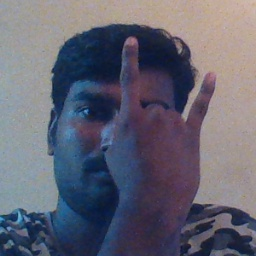V: (103, 35, 222, 197)
